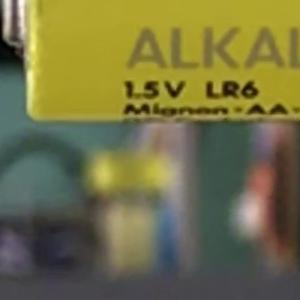ALK: (120, 21, 238, 76)
